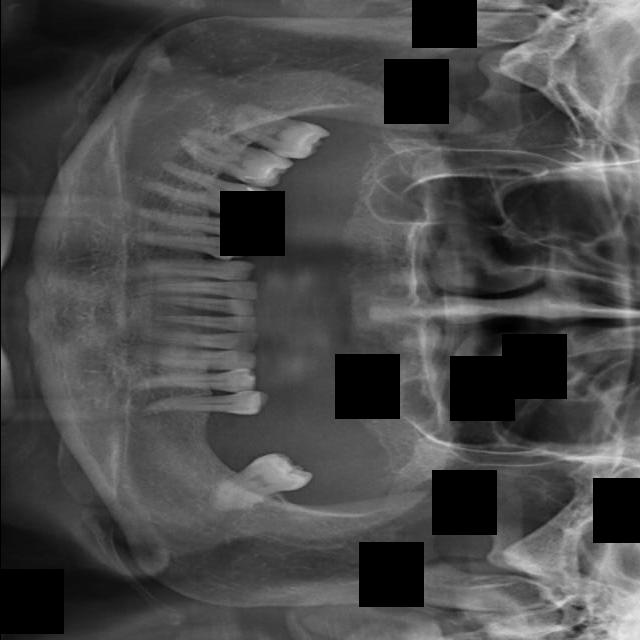Anthogyr Implant: (138, 391, 270, 415)
Bicon Implant: (132, 368, 259, 399)
BioHorizons Implant: (150, 344, 257, 373)
BioLife Implant: (149, 330, 260, 351)
Biomet 3i Implant: (150, 313, 259, 332)
Blue Sky Bio Implant: (149, 295, 257, 315)
Camlog Implant: (142, 272, 259, 300)
Composite filling: (118, 257, 255, 280)
Cowellmedi Implant: (135, 220, 251, 265)
Crown: (134, 202, 260, 246)
Dentatus Implant: (139, 156, 277, 228)
Dentis Implant: (183, 134, 185, 134)
Dentium Implant: (221, 98, 332, 168)
Neoss Implant: (199, 441, 315, 522)
